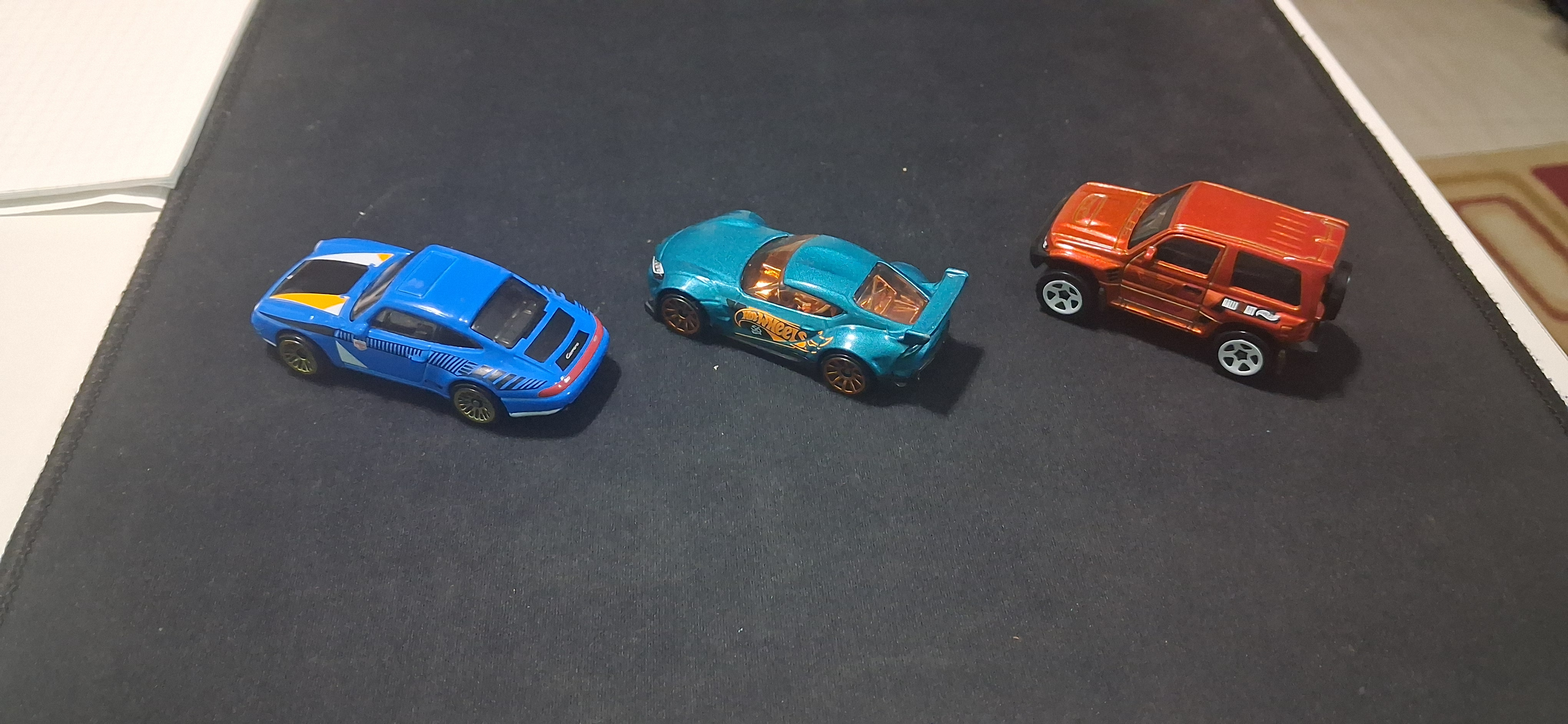Mitsubishi_Pajero_Evolution: (1009, 125, 1408, 405)
Porsche_Carrera: (231, 193, 617, 465)
Toyota_GR_Supra: (621, 173, 980, 426)
